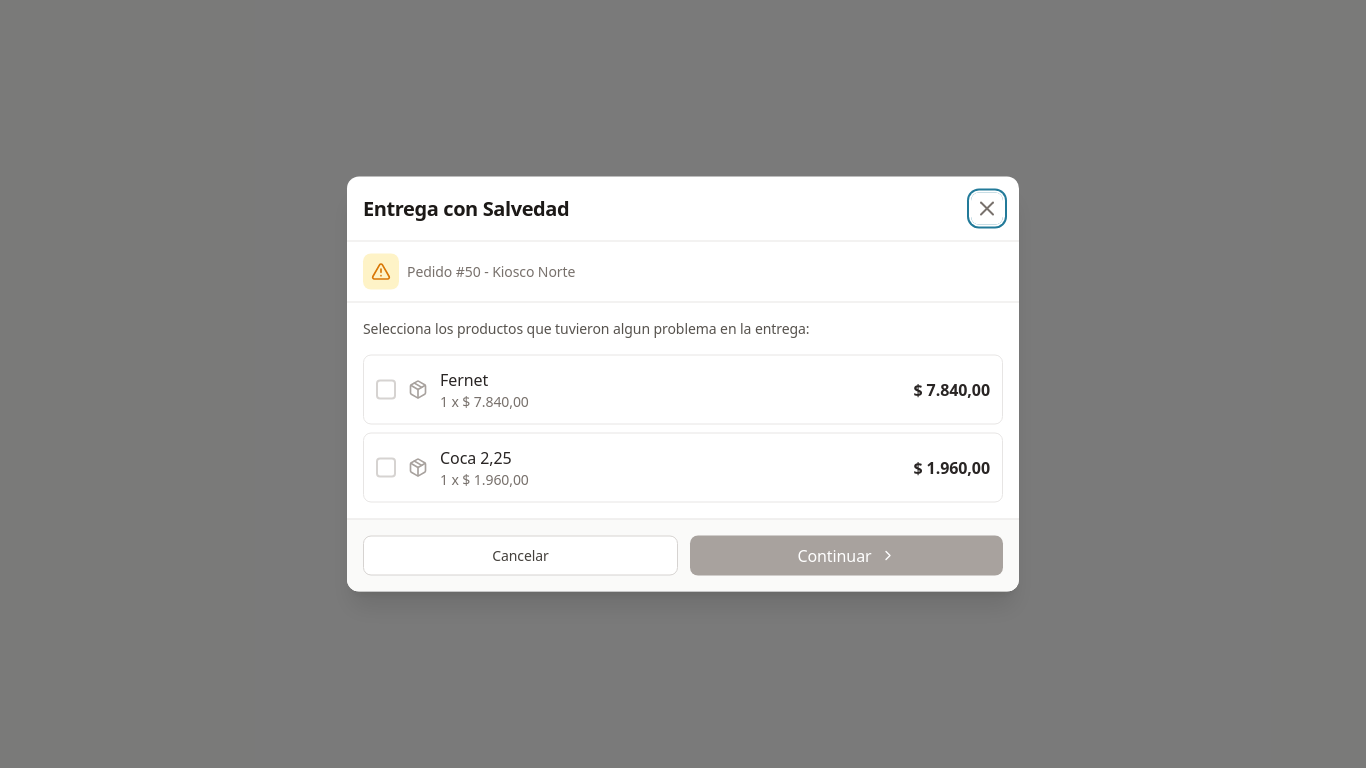
ModalEntregaConSalvedad — combo roto por el cliente (#1192) › el resumen muestra el combo roto, el recargo y el total que sube
Step 1. Click the text "Coca 2,25" → (476,458), box [440,446,512,468]
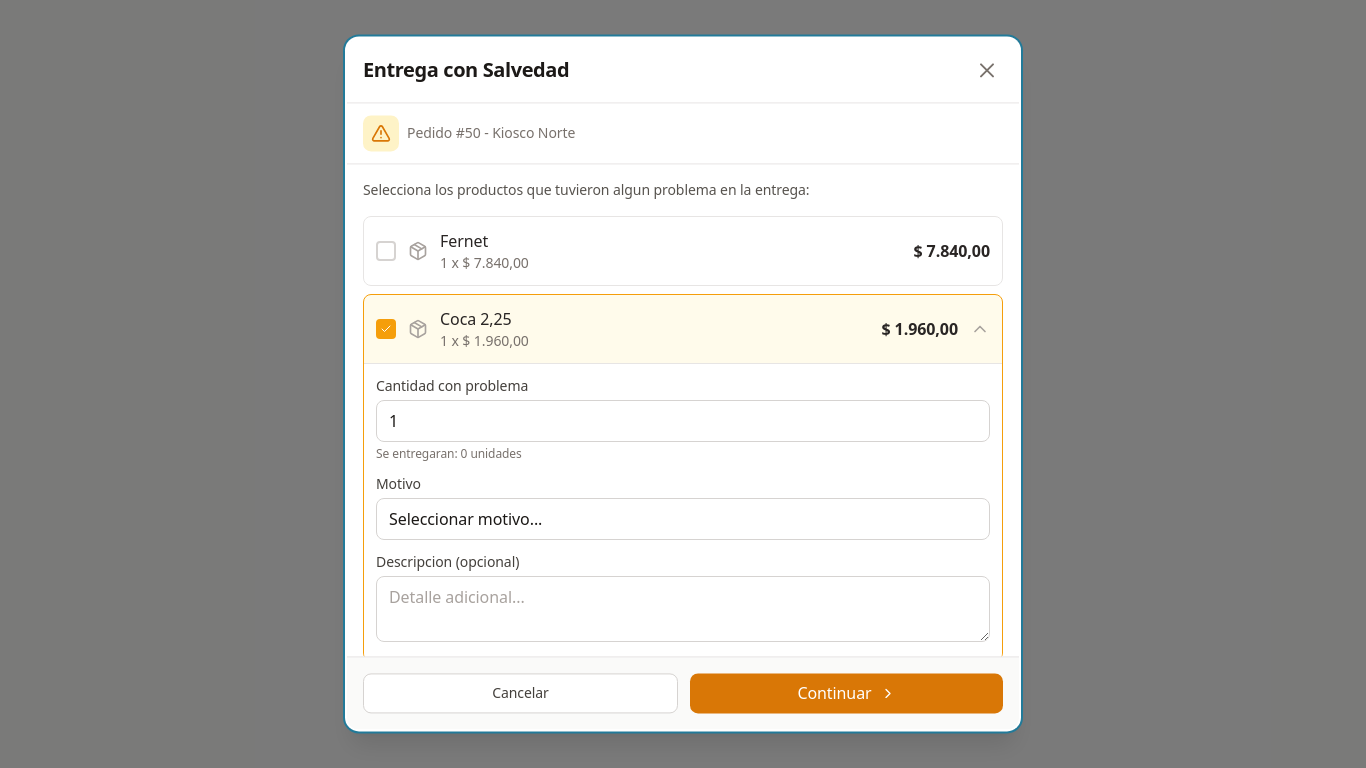
Step 2. Select "Cliente Rechaza" in the dropdown → (683,519), box [376,498,990,540]
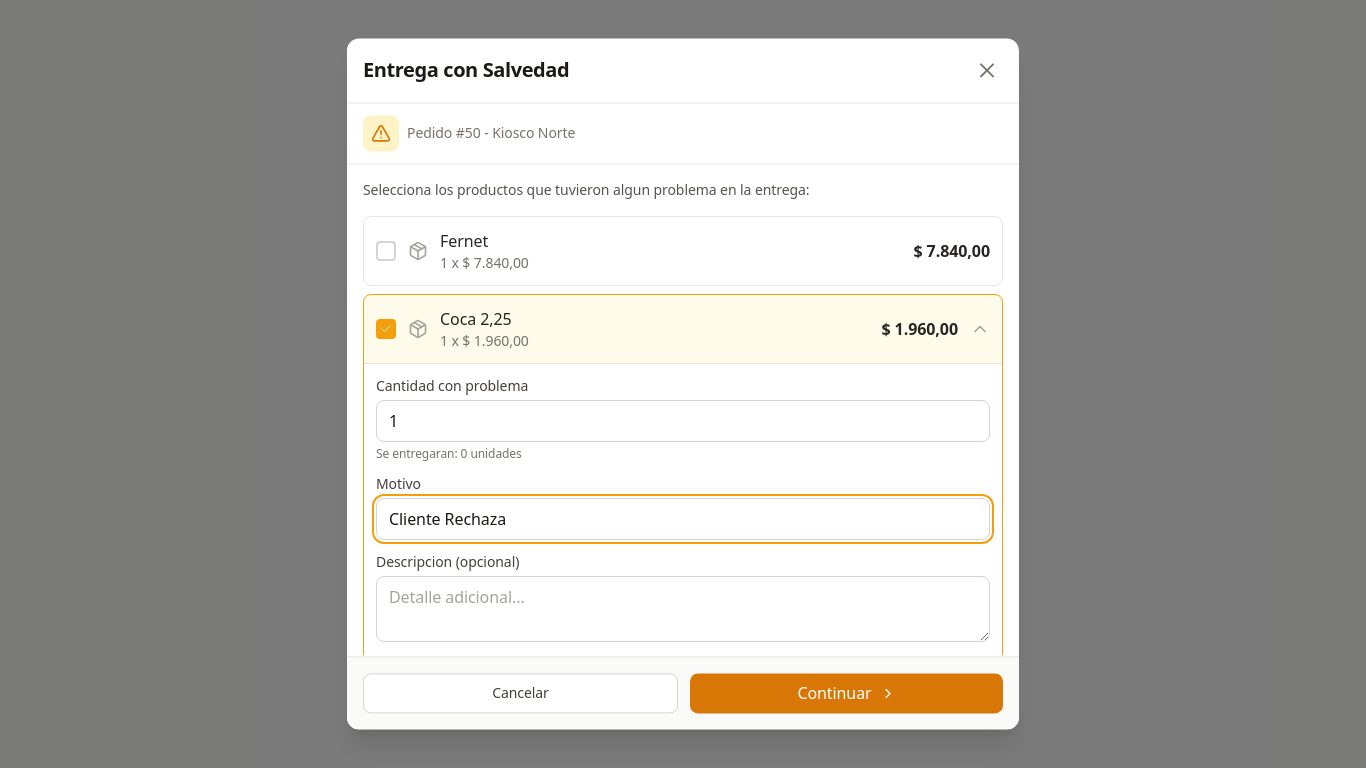
Step 3. Click the button "Continuar" → (846,694), box [690,674,1003,714]
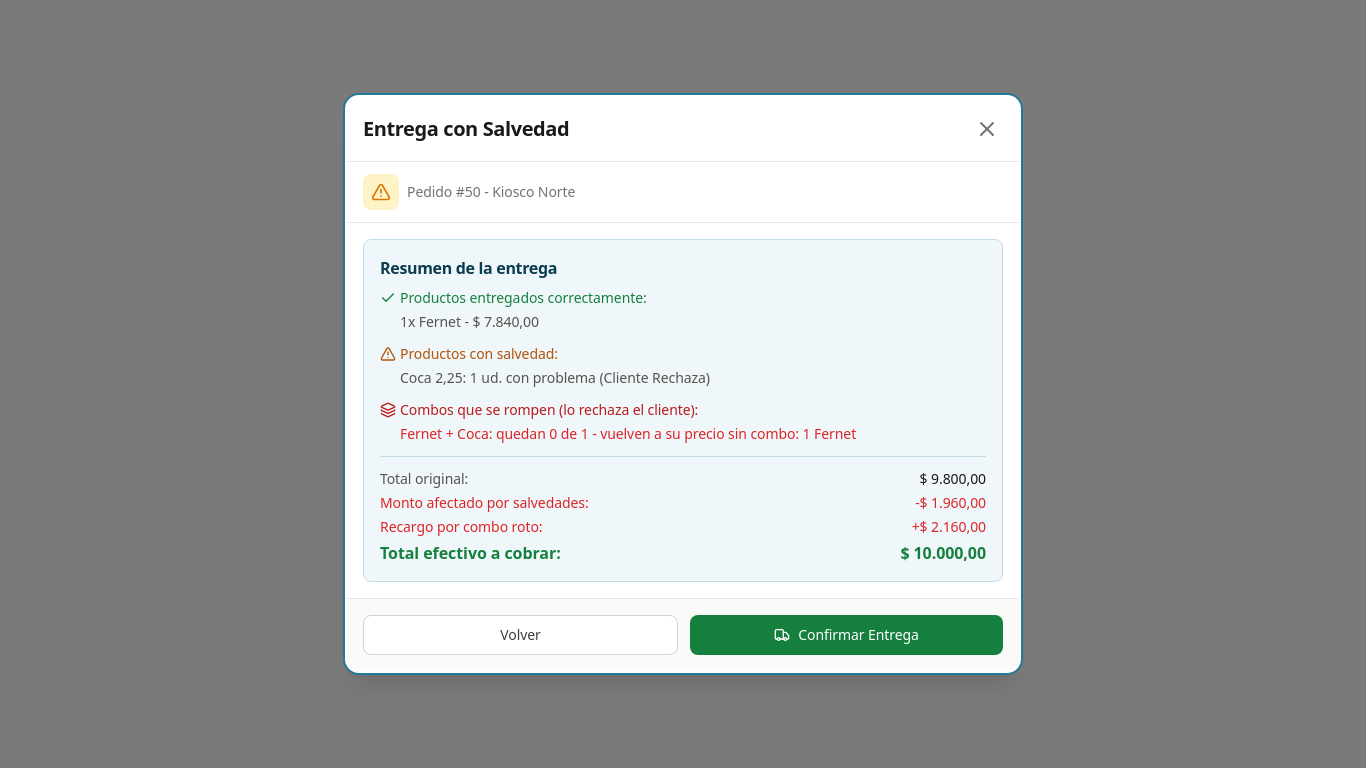
Now the element with test id "resumen-combos-rotos" shows "Fernet + Coca: quedan 0 de 1 - vuelven a su precio sin combo: 1 Fernet", box [380,400,856,443]
Now the element with test id "recargo-combos" reads "Recargo por combo roto: +$ 2.160,00", box [380,517,986,537]
